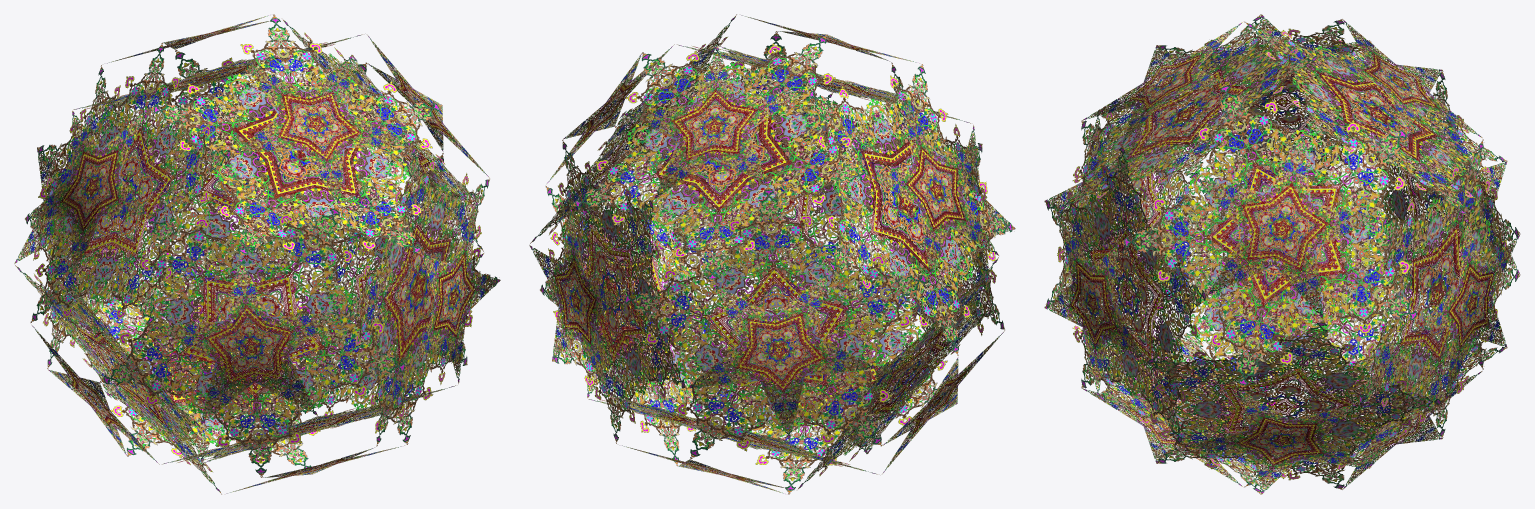
File: SnubDodecadodecahedron11.gltf
The picture shows the model from 3 angles, left to right: view 1: azimuth 30°, elevation 25°; view 2: azimuth 150°, elevation 25°; view 3: azimuth 270°, elevation 25°; orthographic projection.
Parts seen in each view (by area): view 1: SnubDodecadodecahedron11; view 2: SnubDodecadodecahedron11; view 3: SnubDodecadodecahedron11.
Part boxes in pixels (x1,y1,x2,y2): SnubDodecadodecahedron11: [14, 14, 500, 494]; SnubDodecadodecahedron11: [529, 14, 1015, 494]; SnubDodecadodecahedron11: [1044, 14, 1520, 494].
Size of the model in its own units: 2.48 by 2.48 by 2.48.
Materials: 1 (1 with a texture image).
